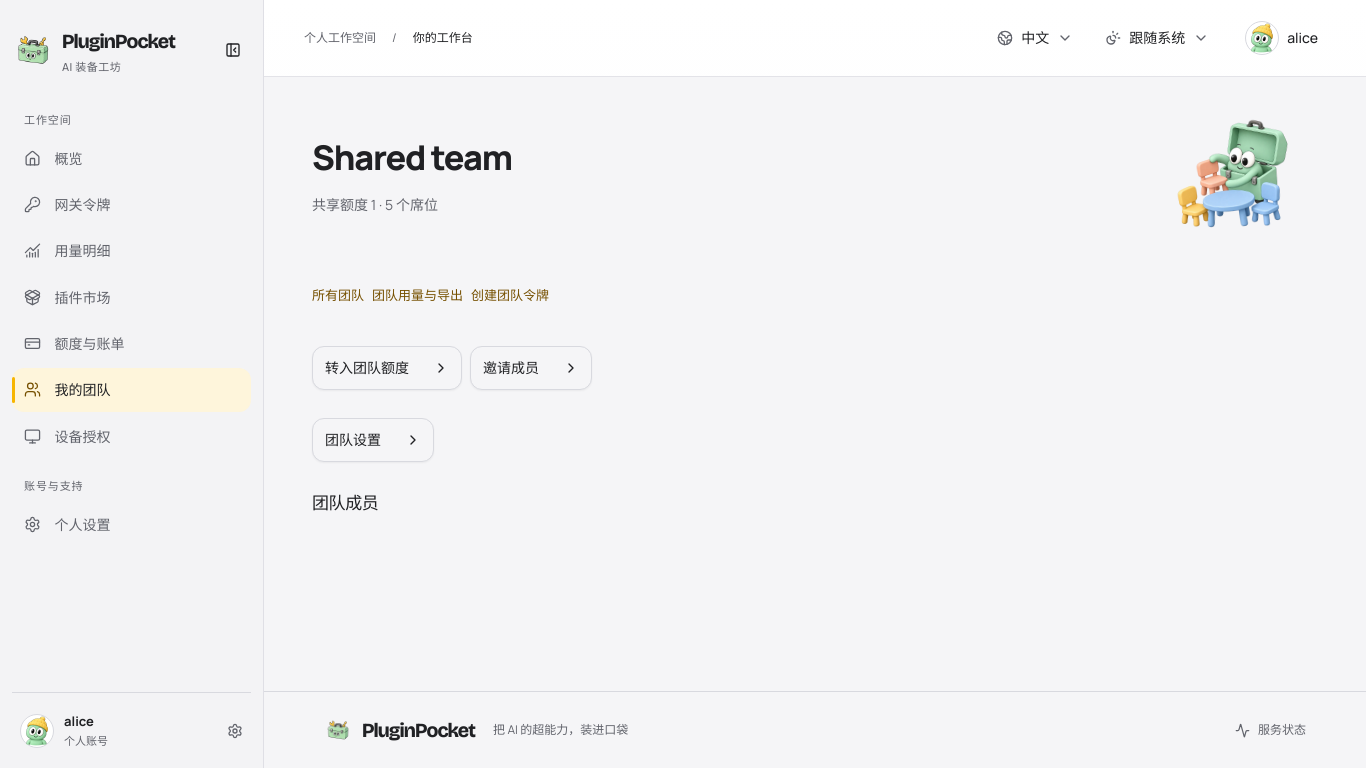
it: a previous account mutation cannot repopulate the new account cache
The image size is (1366, 768).
Click the button "转入团队额度": [387, 368] box [312,346,462,390]
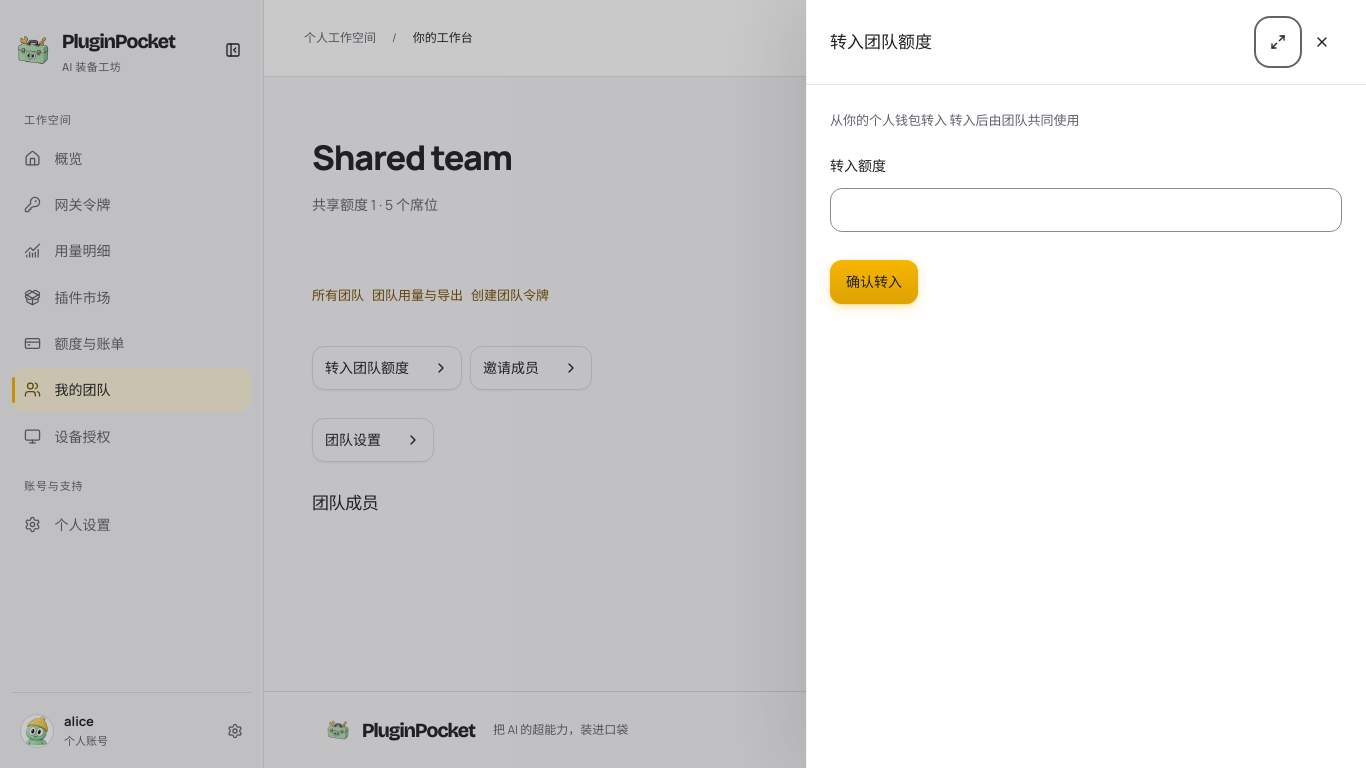
In the number field labelled "转入额度": [1086, 210] box [830,188,1342,232], type "5"
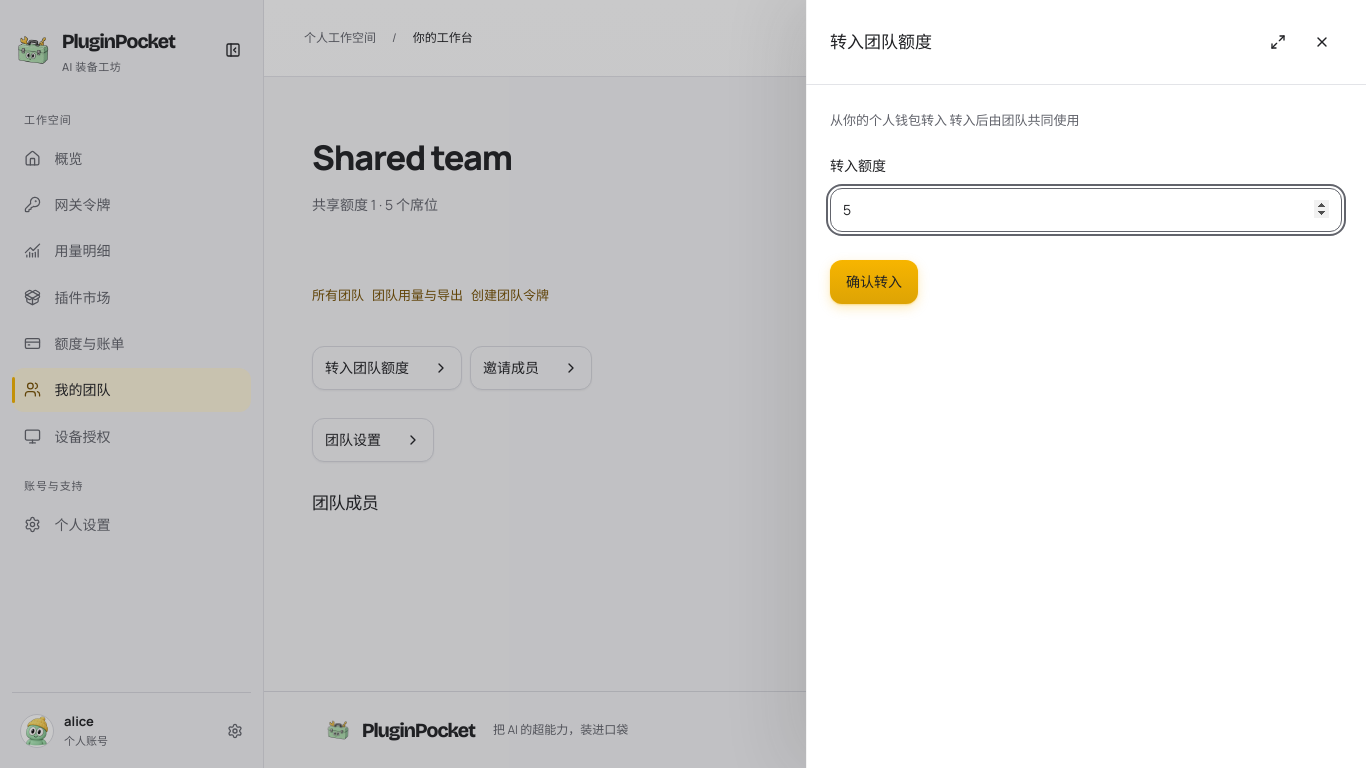
Click the button "确认转入": [874, 282] box [830,260,918,304]
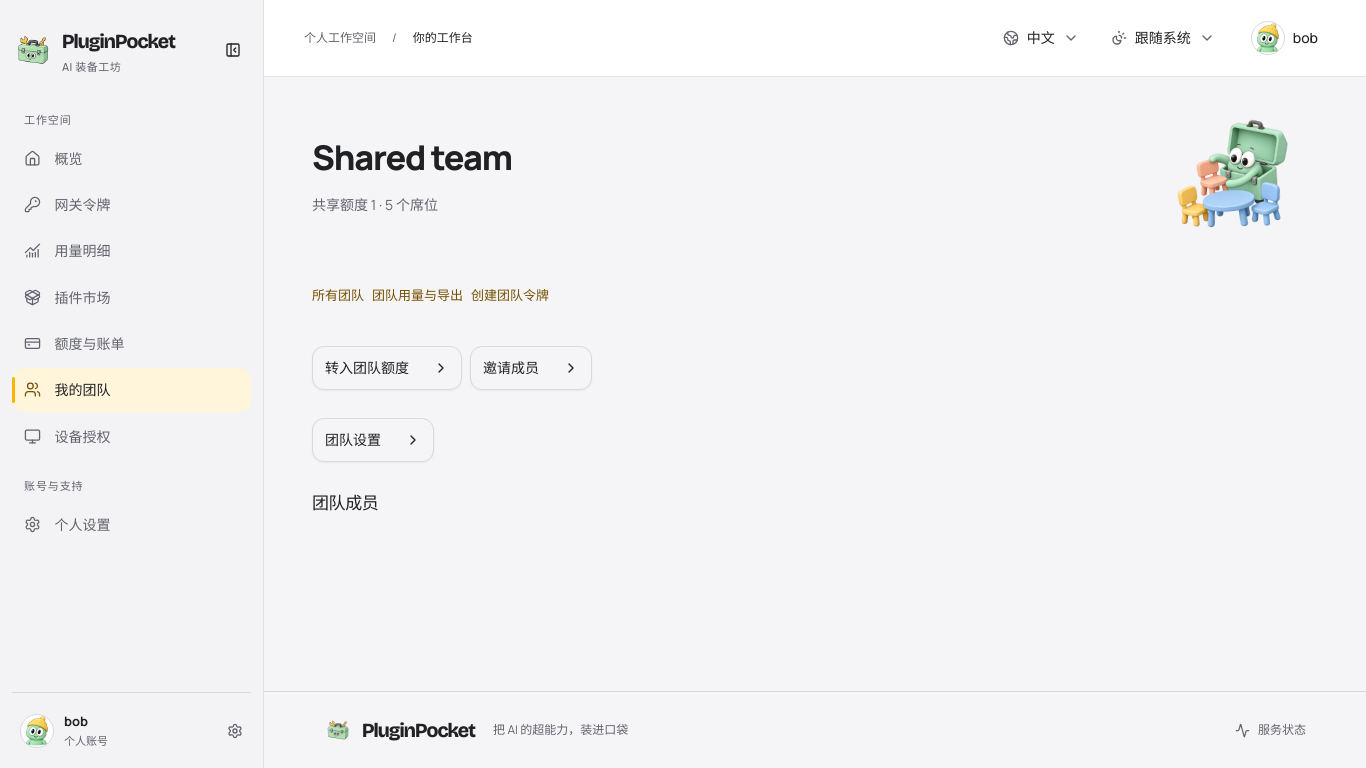
Expected: the heading "Shared team" is shown, [312,134,512,180]
Expected: the text "bob" in the row of "你的工作台" is shown, [1293,28,1318,47]
